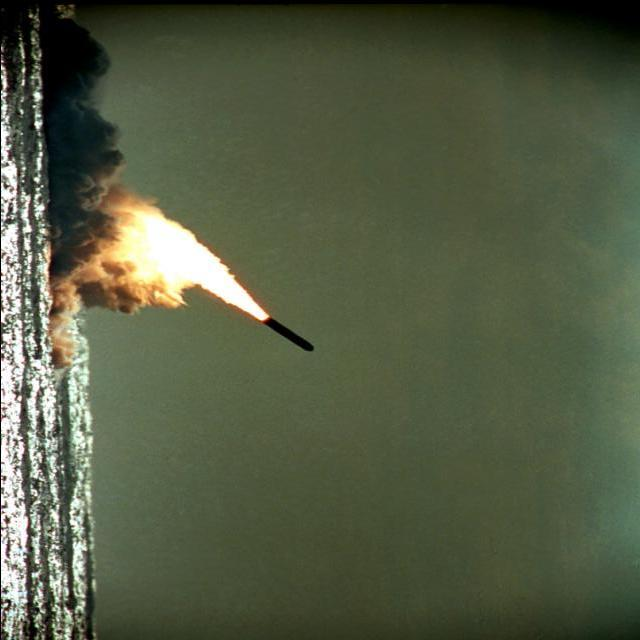missile: (256, 314, 318, 362)
